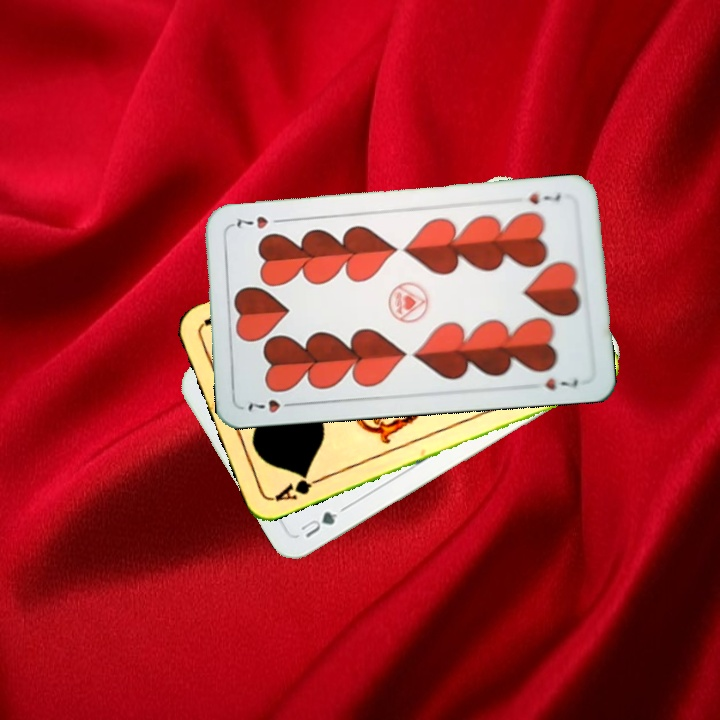GA: (270, 469, 326, 504)
GU: (295, 507, 340, 541)
H7: (244, 395, 300, 416), (525, 189, 563, 206)
